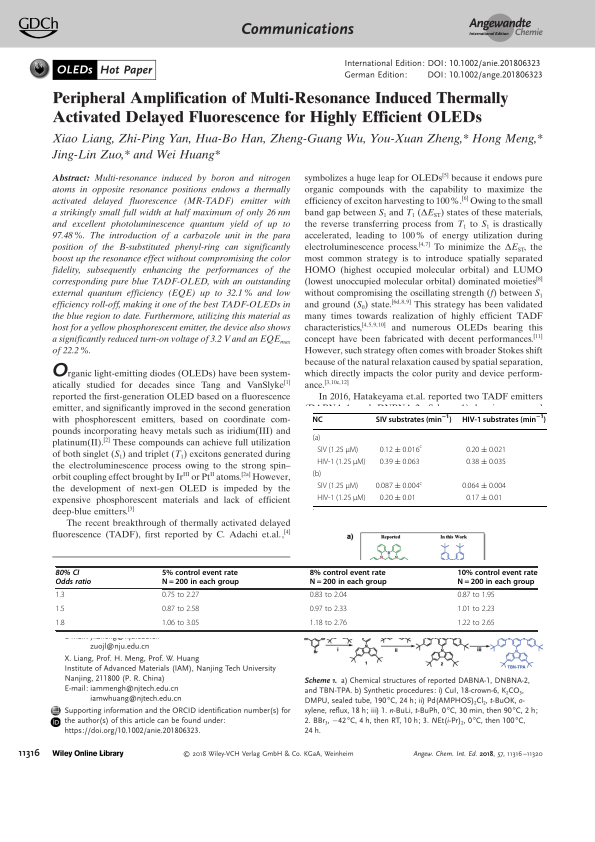borderless: (54, 565, 537, 630), (311, 411, 547, 506)
cell: (457, 569, 538, 587), (161, 569, 240, 587), (309, 569, 388, 587), (461, 414, 547, 424), (375, 414, 453, 424), (55, 569, 92, 586), (375, 480, 423, 491), (316, 457, 367, 467), (379, 444, 423, 455), (316, 494, 367, 503), (316, 445, 359, 455), (465, 445, 507, 455), (379, 457, 421, 467), (465, 457, 507, 467), (461, 482, 507, 491), (316, 482, 359, 491), (379, 494, 417, 503), (465, 494, 503, 503), (161, 592, 200, 599), (309, 592, 348, 599), (457, 592, 496, 599), (161, 606, 200, 613), (309, 606, 348, 613), (457, 606, 496, 613), (161, 620, 200, 627), (309, 620, 348, 627), (457, 620, 496, 627), (312, 415, 324, 424), (312, 433, 321, 443), (312, 470, 322, 479), (55, 592, 65, 599), (55, 606, 65, 613), (55, 620, 65, 627)
